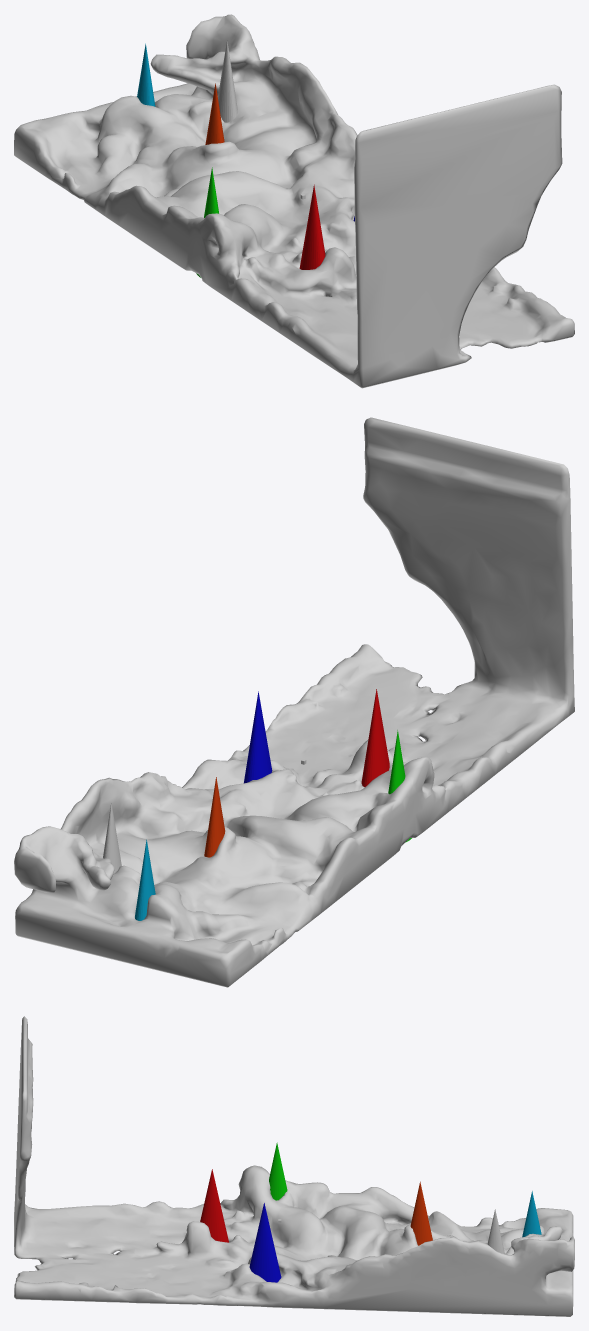
3 renders of one model, top to bottom at view 1: azimuth 30°, elevation 25°; view 2: azimuth 150°, elevation 25°; view 3: azimuth 270°, elevation 25°, orthographic. The views are drawn at different scales.
Visible parts, largest first — view 1: Liquid_Domain, 円錐.001, 円錐, 円錐.004, 円錐.005; view 2: Liquid_Domain, 円錐.001, 円錐.002, 円錐.004, 円錐.005; view 3: Liquid_Domain, 円錐.002, 円錐.001, 円錐.004, 円錐.003, 円錐.005, 円錐.
Boxes of the visible parts, box(x1,y1,x2,y2) form: Liquid_Domain: box(14, 14, 574, 388); 円錐.001: box(299, 184, 325, 269); 円錐: box(218, 40, 237, 122); 円錐.004: box(205, 83, 224, 144); 円錐.005: box(137, 43, 155, 106); Liquid_Domain: box(14, 417, 574, 987); 円錐.001: box(361, 689, 389, 786); 円錐.002: box(244, 691, 272, 783); 円錐.004: box(204, 777, 225, 857); 円錐.005: box(135, 839, 155, 920); Liquid_Domain: box(14, 1016, 574, 1316); 円錐.002: box(249, 1203, 281, 1282); 円錐.001: box(200, 1169, 228, 1242); 円錐.004: box(410, 1181, 432, 1245); 円錐.003: box(269, 1142, 287, 1200); 円錐.005: box(522, 1191, 541, 1237); 円錐: box(487, 1209, 504, 1253).
Bounding box in the file's own units: 129 × 157 × 362.
